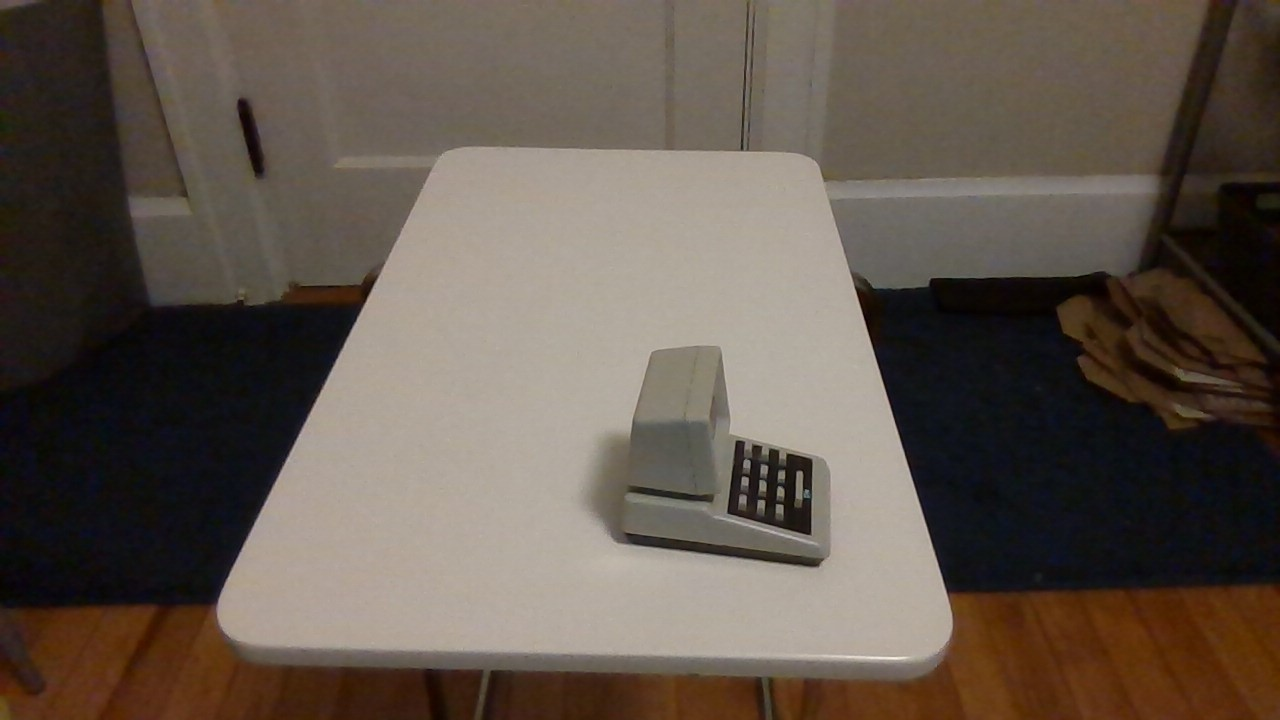Toy: (598, 331, 867, 597)
